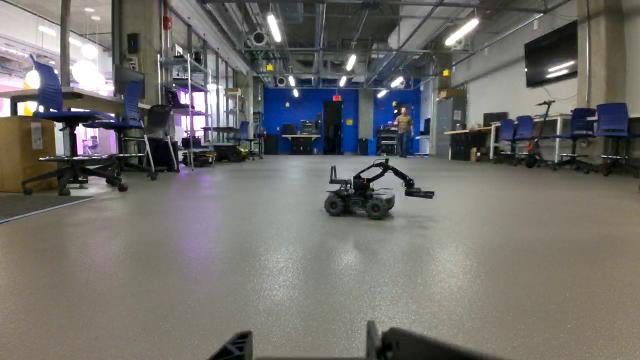robot: (320, 154, 438, 222)
